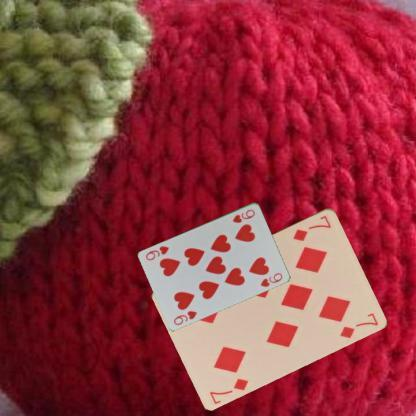7d: (207, 375, 250, 405), (290, 213, 332, 242)
9h: (230, 206, 257, 224), (171, 308, 198, 326)
